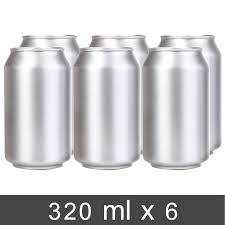can: (4, 35, 223, 171)
